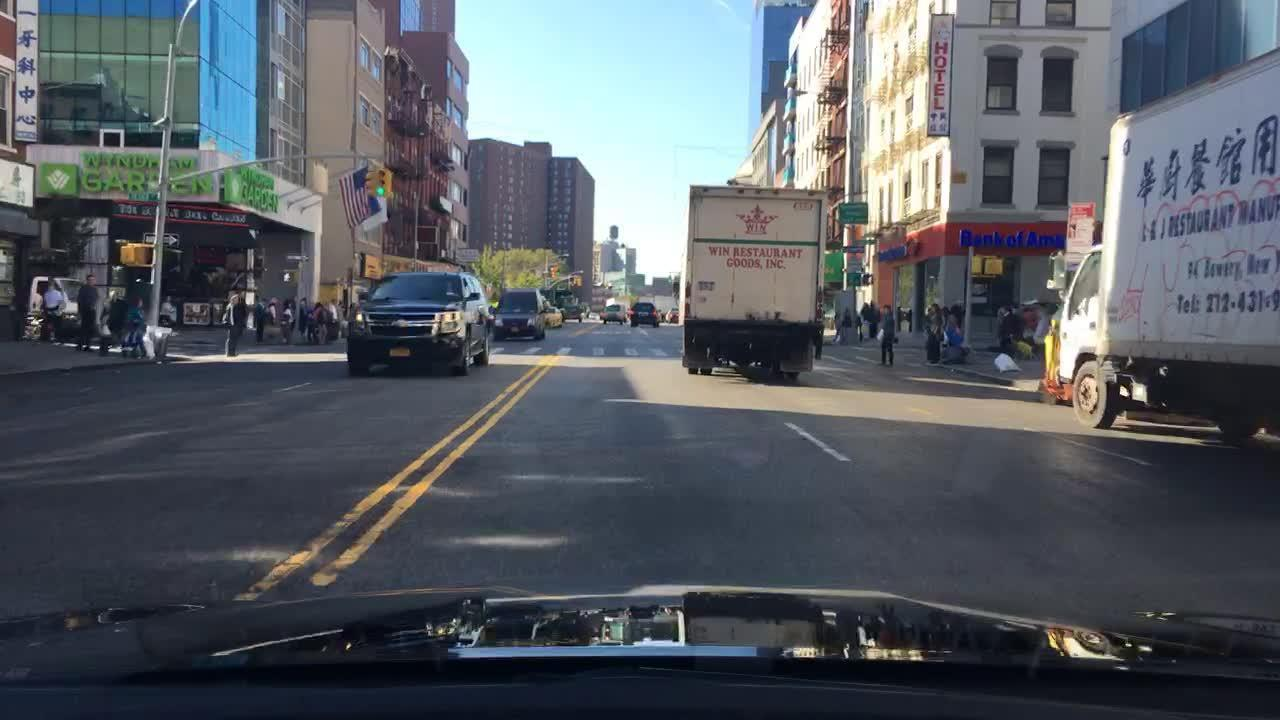chevrolet: (386, 315, 417, 334)
